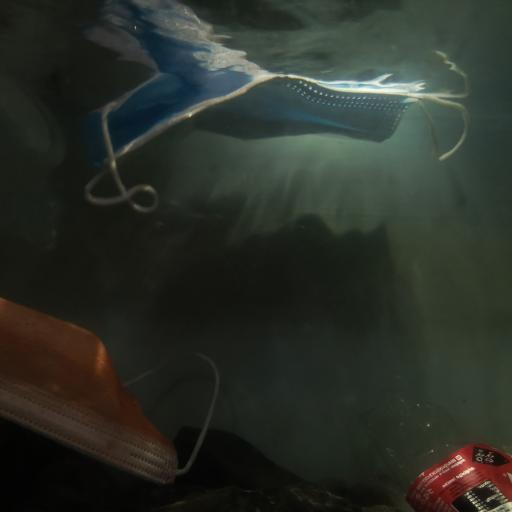mask: (87, 62, 472, 210), (0, 296, 220, 489)
plastic_bottle: (342, 386, 512, 512)
